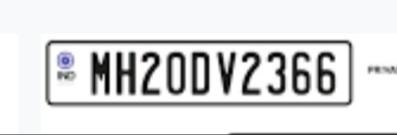0: (164, 48, 188, 99)
2: (240, 48, 266, 99), (139, 48, 162, 97)
3: (265, 48, 289, 96)
6: (312, 48, 339, 100), (290, 51, 315, 97)
D: (190, 46, 211, 99)
H: (112, 48, 139, 97)
M: (87, 48, 112, 98)
V: (213, 45, 238, 102)
